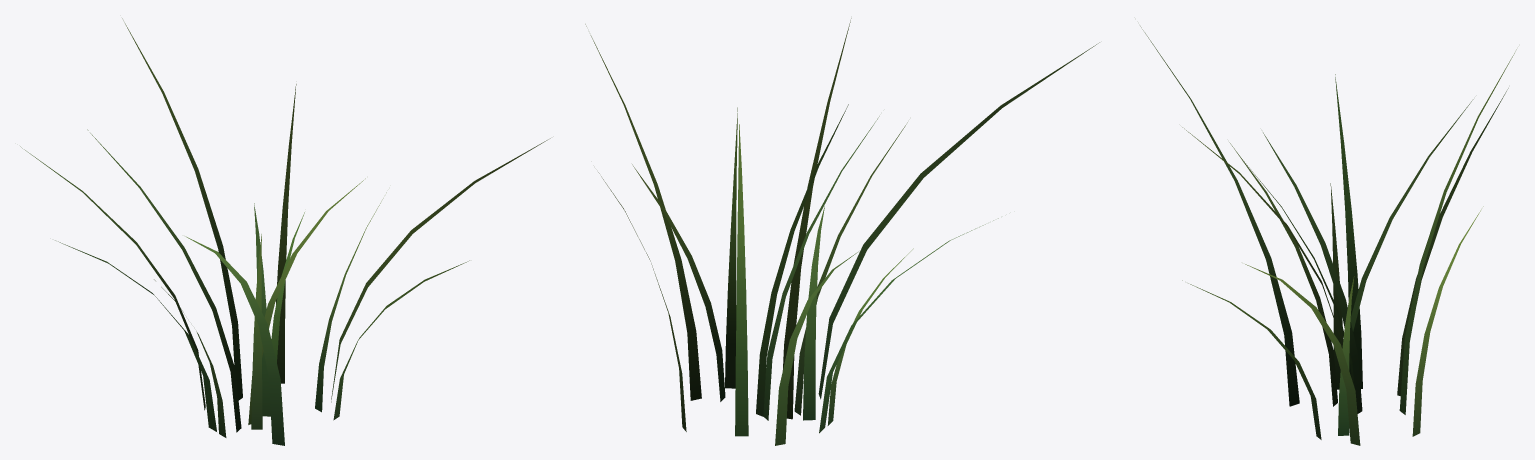
File: grass-broad-b.lod0.glb
3 renders of one model, left to right at view 1: azimuth 30°, elevation 25°; view 2: azimuth 150°, elevation 25°; view 3: azimuth 270°, elevation 25°, orthographic. The views are drawn at different scales.
Visible parts, largest first — view 1: grass-broad-b.lod0; view 2: grass-broad-b.lod0; view 3: grass-broad-b.lod0.
Part boxes in pixels (bbox=[...]): grass-broad-b.lod0: bbox=[20, 18, 550, 445]; grass-broad-b.lod0: bbox=[585, 18, 1099, 445]; grass-broad-b.lod0: bbox=[1140, 26, 1516, 445].
Size of the model in its own units: 1.19 by 0.8841 by 0.9073.
